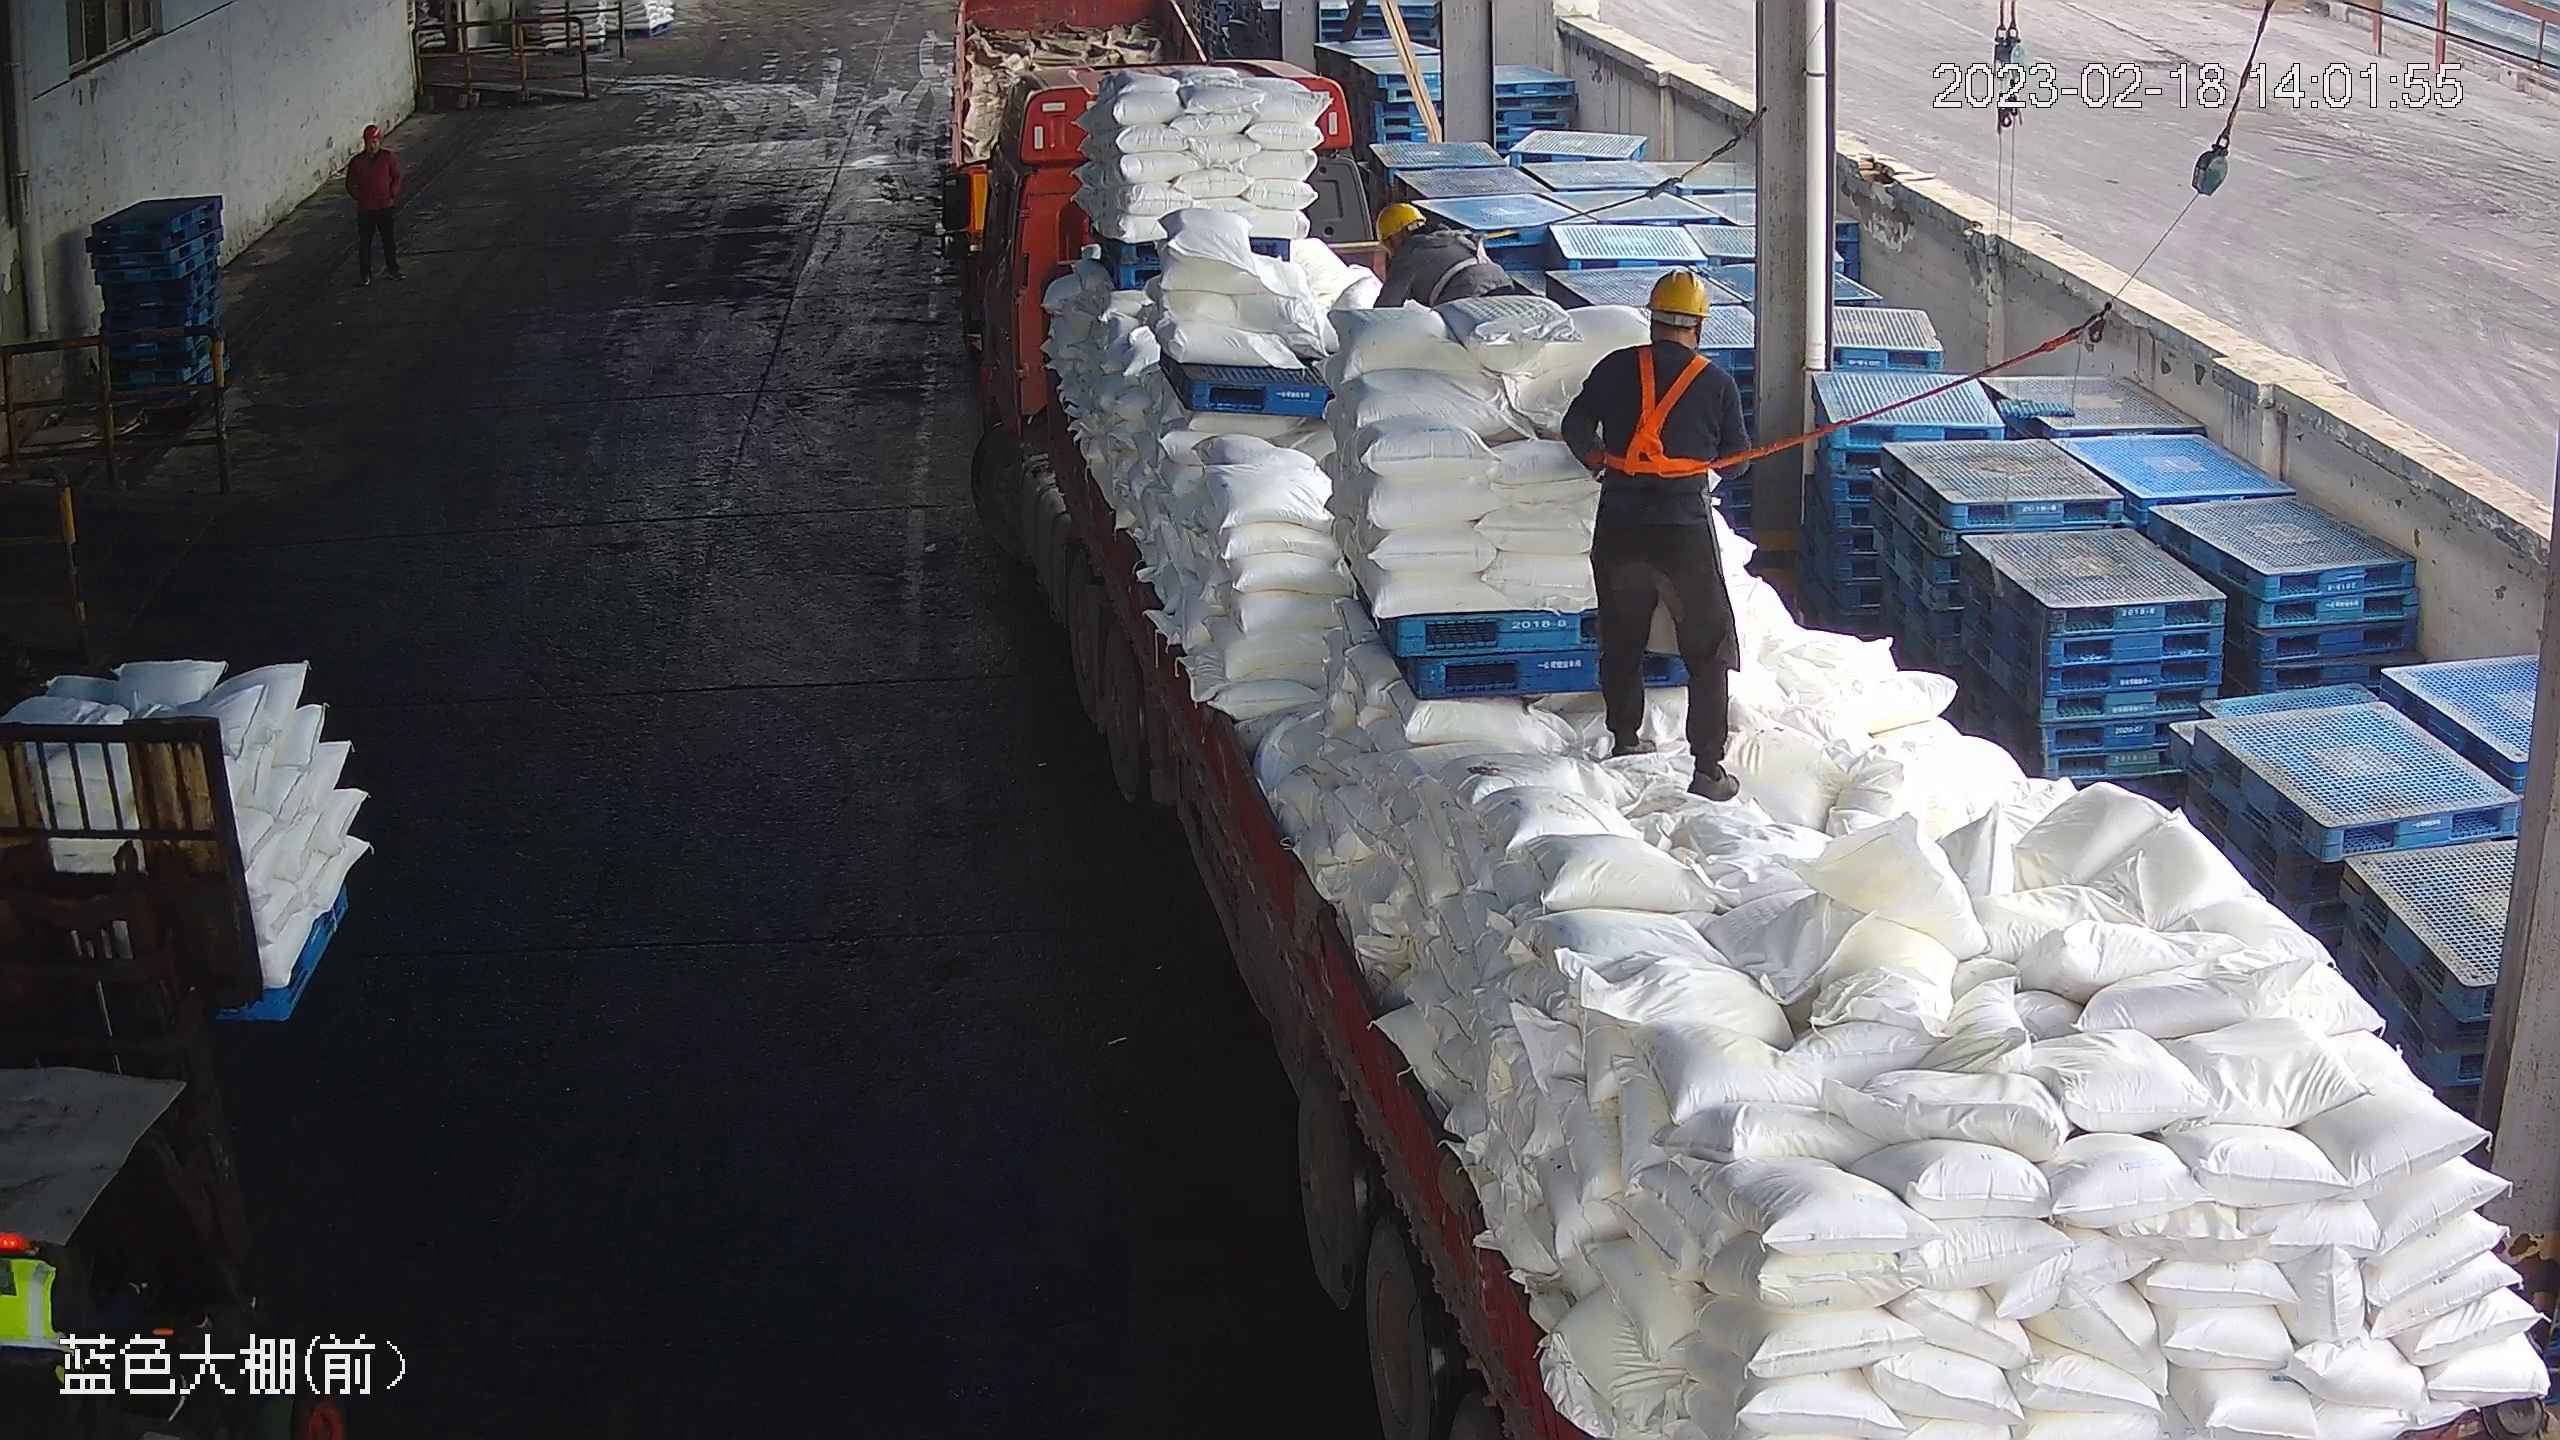belt: (1602, 346, 1725, 478), (1421, 217, 1499, 289)
head: (1580, 269, 1747, 409), (1372, 199, 1481, 276), (348, 119, 400, 170)
helmet: (1640, 269, 1712, 321), (1372, 199, 1425, 248), (359, 118, 390, 148)
people: (1561, 267, 1752, 797), (339, 119, 408, 288)
truck: (940, 55, 2555, 1438)
